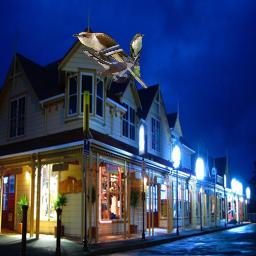Cuckoo: (72, 31, 149, 90), (82, 47, 138, 83), (130, 32, 145, 77)
